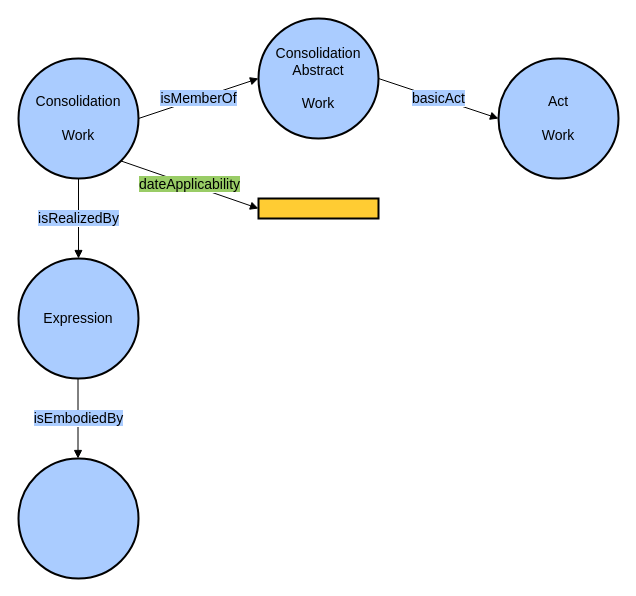
The diagram is 636 pixels wide and 596 high, and some of its shapes have lost their labels. The centre of each missing label's shape, as x and y in pixels:
Manifestation: pixel 78 518
xsd:date: pixel 318 208
